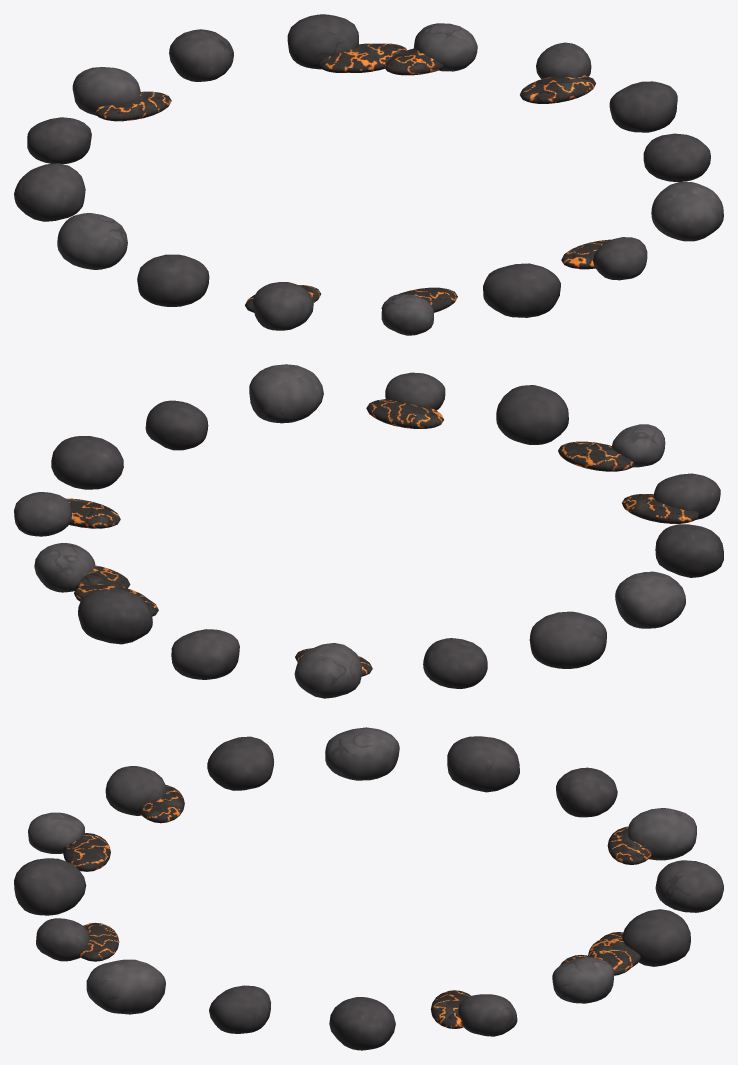
The model's file is lava_rim.glb.
3 renders of one model, top to bottom at view 1: azimuth 30°, elevation 25°; view 2: azimuth 150°, elevation 25°; view 3: azimuth 270°, elevation 25°, orthographic.
Visible parts, largest first — view 1: LavaRim; view 2: LavaRim; view 3: LavaRim.
Part boxes in pixels (x1=…): LavaRim: x1=14, y1=14, x2=723, y2=335; LavaRim: x1=14, y1=364, x2=723, y2=698; LavaRim: x1=14, y1=727, x2=723, y2=1050.
Size of the model in its own units: 8.26 by 0.6175 by 8.28.
Materials: 1 (1 with a texture image).
